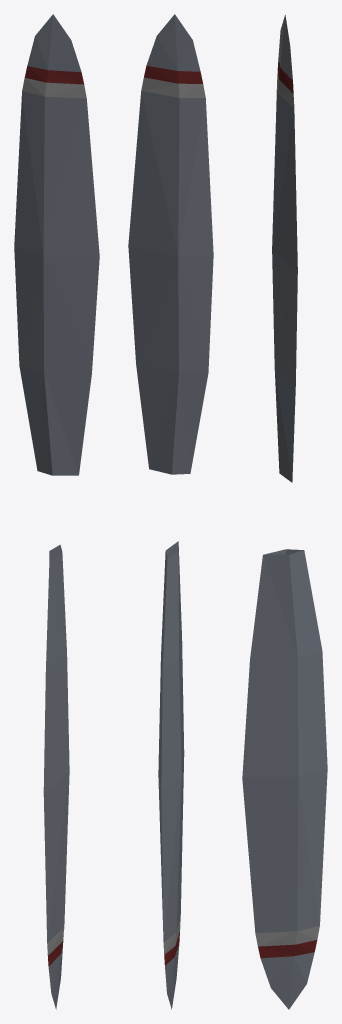
File: Prop_kamikaze.obj
The picture shows the model from 3 angles, left to right: view 1: azimuth 30°, elevation 25°; view 2: azimuth 210°, elevation 25°; view 3: azimuth 330°, elevation 25°; orthographic projection.
Parts seen in each view (by area): view 1: ShapeIndexedFaceSet.010_ShapeIndexedFaceSet.011, ShapeIndexedFaceSet.011_ShapeIndexedFaceSet.012, ShapeIndexedFaceSet.012_ShapeIndexedFaceSet.013; view 2: ShapeIndexedFaceSet.010_ShapeIndexedFaceSet.011, ShapeIndexedFaceSet.011_ShapeIndexedFaceSet.012, ShapeIndexedFaceSet.012_ShapeIndexedFaceSet.013; view 3: ShapeIndexedFaceSet.010_ShapeIndexedFaceSet.011, ShapeIndexedFaceSet.011_ShapeIndexedFaceSet.012, ShapeIndexedFaceSet.012_ShapeIndexedFaceSet.013.
Part boxes in pixels (x1,y1,x2,y2): ShapeIndexedFaceSet.010_ShapeIndexedFaceSet.011: (14,14,99,1009); ShapeIndexedFaceSet.011_ShapeIndexedFaceSet.012: (22,78,86,955); ShapeIndexedFaceSet.012_ShapeIndexedFaceSet.013: (24,66,84,966); ShapeIndexedFaceSet.010_ShapeIndexedFaceSet.011: (128,14,213,1009); ShapeIndexedFaceSet.011_ShapeIndexedFaceSet.012: (141,77,205,954); ShapeIndexedFaceSet.012_ShapeIndexedFaceSet.013: (144,65,202,965); ShapeIndexedFaceSet.010_ShapeIndexedFaceSet.011: (242,15,327,1009); ShapeIndexedFaceSet.011_ShapeIndexedFaceSet.012: (255,70,319,946); ShapeIndexedFaceSet.012_ShapeIndexedFaceSet.013: (258,58,317,958).
Bounding box in the file's own units: 1.7 × 29 × 1.66.
